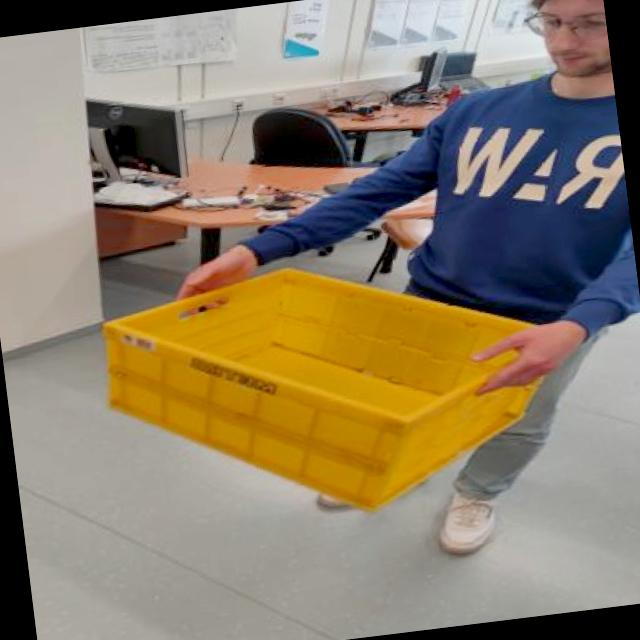box: (67, 229, 610, 548)
